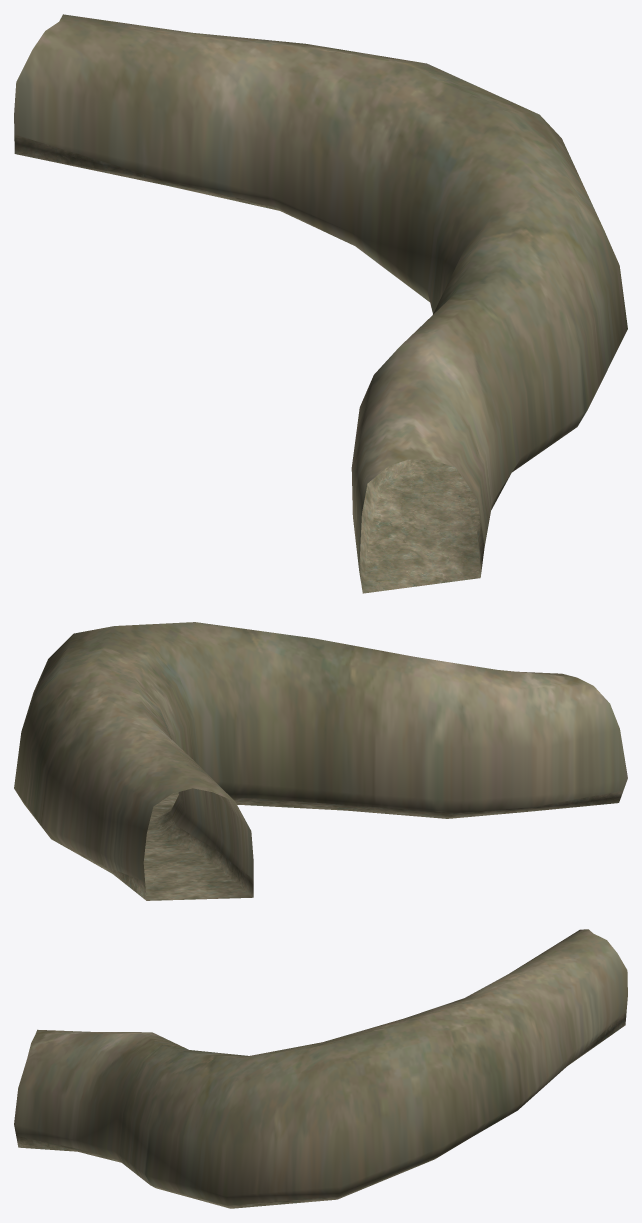
The model's file is EKH_THRONE_PS_TH_LINE169.fbx.
3 renders of one model, top to bottom at view 1: azimuth 30°, elevation 25°; view 2: azimuth 150°, elevation 25°; view 3: azimuth 270°, elevation 25°, orthographic. The views are drawn at different scales.
Visible parts, largest first — view 1: EKH_THRONE_PS_TH_LINE169; view 2: EKH_THRONE_PS_TH_LINE169; view 3: EKH_THRONE_PS_TH_LINE169.
Boxes of the visible parts, x1,y1,x2,y2 form: EKH_THRONE_PS_TH_LINE169: [14, 14, 627, 593]; EKH_THRONE_PS_TH_LINE169: [14, 622, 627, 900]; EKH_THRONE_PS_TH_LINE169: [14, 929, 627, 1208].
Bounding box in the file's own units: 80832 × 49358 × 135090.
1 material, 1 textured.
